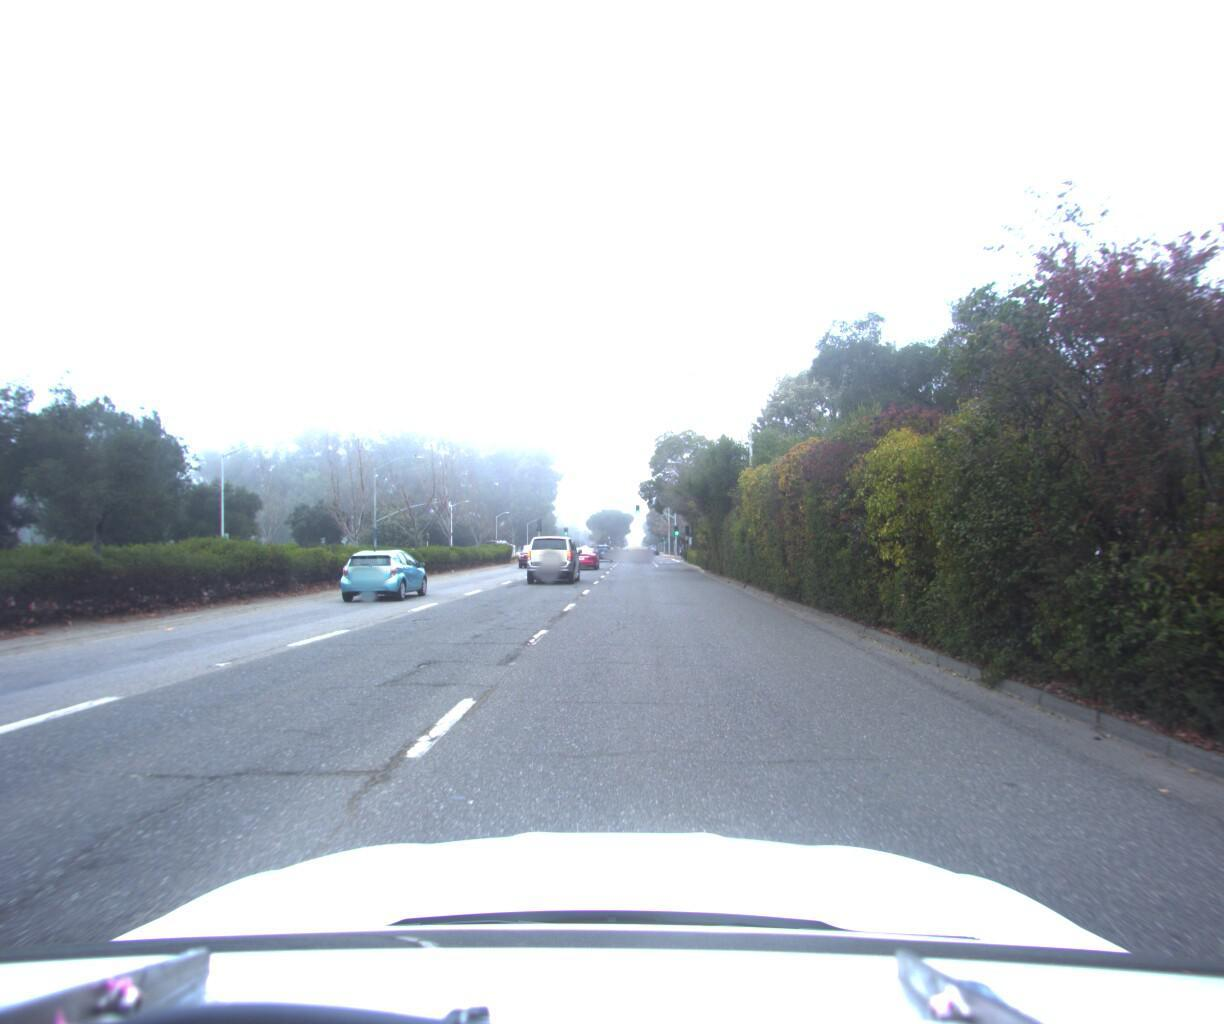car: (336, 544, 437, 598), (522, 529, 585, 582), (565, 540, 599, 565), (513, 541, 547, 565), (596, 538, 617, 556), (629, 537, 649, 555)
